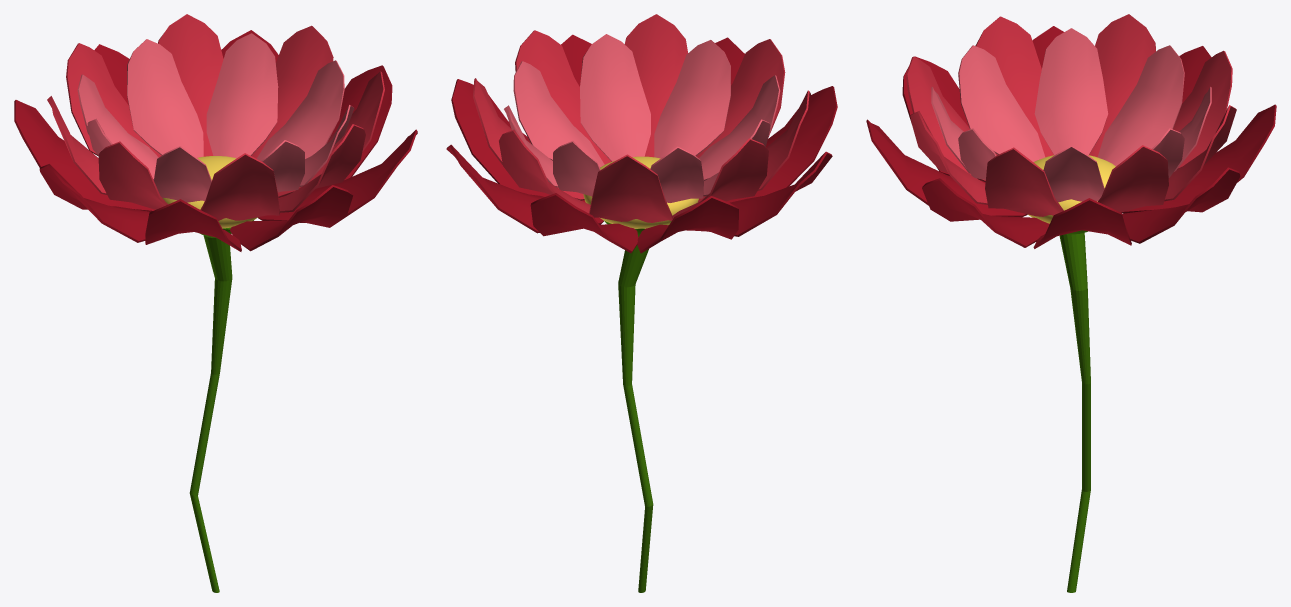
Rendered from Flower 1.fbx.
3 renders of one model, left to right at view 1: azimuth 30°, elevation 25°; view 2: azimuth 150°, elevation 25°; view 3: azimuth 270°, elevation 25°, orthographic.
Visible parts, largest first — view 1: Blüten; view 2: Blüten; view 3: Blüten.
Part boxes in pixels (x1,y1,x2,y2): Blüten: [14, 14, 417, 592]; Blüten: [446, 14, 837, 592]; Blüten: [866, 14, 1276, 592].
Size of the model in its own units: 18.96 by 26.04 by 18.96.
